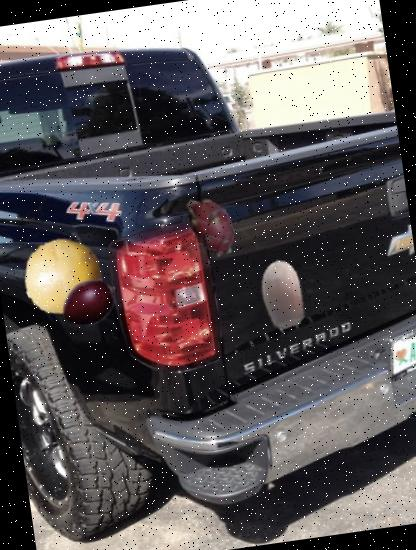Grapefruit: (18, 231, 108, 321)
Hazelnut: (244, 254, 323, 333)
Pitahaya: (175, 189, 248, 262)
Tamarillo: (57, 270, 124, 336)
